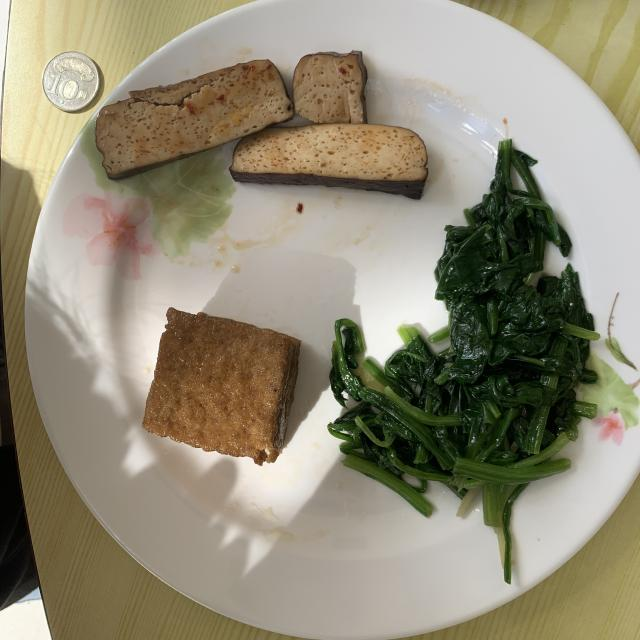coin: (42, 51, 100, 111)
egg tofu: (142, 308, 301, 465)
firm tofu: (95, 51, 428, 199)
mustard greens: (329, 140, 599, 582)
